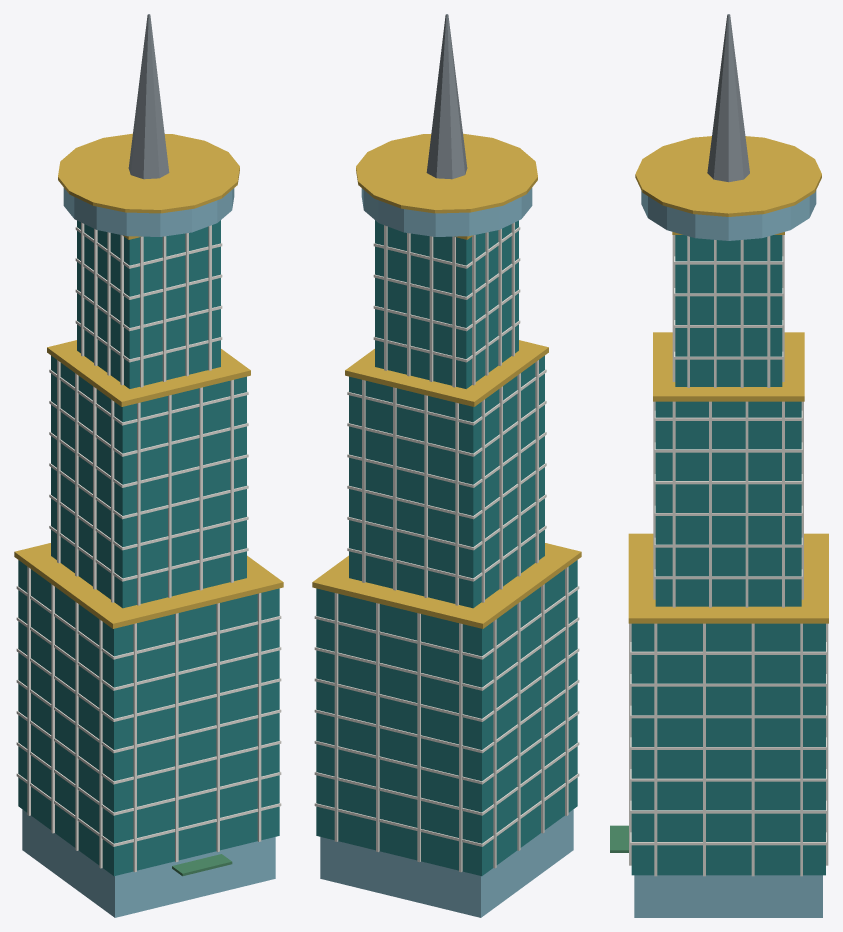
The model's file is tower_4.glb.
The picture shows the model from 3 angles, left to right: view 1: azimuth 30°, elevation 25°; view 2: azimuth 150°, elevation 25°; view 3: azimuth 270°, elevation 25°; orthographic projection.
Visible parts, largest first — view 1: Cube.001; view 2: Cube.001; view 3: Cube.001.
Boxes of the visible parts, x1=… form: Cube.001: x1=14, y1=14, x2=283, y2=917; Cube.001: x1=312, y1=14, x2=581, y2=917; Cube.001: x1=610, y1=14, x2=828, y2=917.
Size of the model in its own units: 20.6 by 98 by 22.5.
